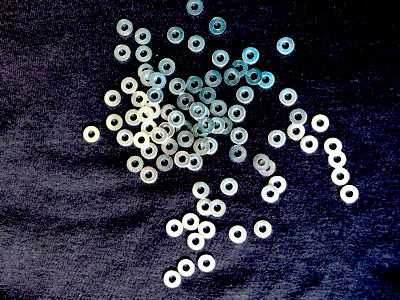circle: (162, 268, 184, 289), (164, 219, 186, 239), (340, 185, 360, 205), (279, 86, 298, 106), (197, 254, 216, 274), (126, 154, 144, 175), (311, 114, 330, 133), (300, 136, 319, 155), (277, 36, 296, 55), (115, 18, 134, 37), (328, 151, 348, 169), (331, 168, 351, 186), (269, 175, 287, 195), (182, 212, 200, 232), (177, 258, 195, 278), (167, 25, 185, 45), (324, 137, 342, 156), (289, 107, 307, 126), (288, 122, 306, 141), (261, 185, 280, 203), (228, 104, 247, 122), (230, 127, 249, 145), (209, 199, 227, 218), (207, 117, 225, 136), (198, 87, 217, 105), (137, 63, 156, 81), (133, 27, 151, 46), (169, 77, 186, 97), (83, 125, 100, 145), (268, 129, 286, 147), (254, 220, 272, 238), (242, 46, 260, 64), (229, 146, 247, 164), (198, 221, 216, 239), (201, 137, 219, 155), (140, 166, 158, 184), (105, 114, 123, 132), (140, 120, 158, 138), (121, 77, 139, 95), (158, 58, 176, 76), (140, 70, 158, 88), (211, 49, 229, 67), (168, 110, 185, 129), (253, 154, 271, 171), (259, 159, 276, 177), (258, 72, 276, 89), (245, 68, 263, 85), (230, 225, 247, 243), (221, 178, 239, 195), (193, 182, 210, 200), (188, 233, 205, 251), (216, 118, 233, 136), (198, 117, 215, 135), (187, 75, 204, 93), (178, 92, 195, 110), (162, 138, 179, 156), (141, 142, 158, 160), (117, 129, 134, 147), (144, 102, 161, 120), (104, 89, 121, 107), (114, 44, 131, 62), (188, 35, 206, 52), (209, 17, 226, 35), (193, 121, 209, 140), (161, 103, 177, 122), (231, 60, 248, 77), (223, 69, 240, 86), (237, 86, 254, 103), (186, 154, 203, 171), (177, 131, 194, 148), (158, 121, 175, 138), (133, 132, 150, 149), (125, 109, 142, 126), (131, 91, 148, 108), (135, 45, 152, 62), (196, 198, 212, 216), (206, 70, 222, 88), (175, 151, 191, 169), (157, 154, 173, 172), (138, 106, 154, 124), (212, 99, 228, 116), (193, 139, 209, 156), (193, 106, 210, 122), (190, 102, 206, 119), (176, 120, 193, 136), (152, 127, 168, 144), (147, 88, 164, 104), (150, 73, 167, 89), (186, 1, 204, 16)
